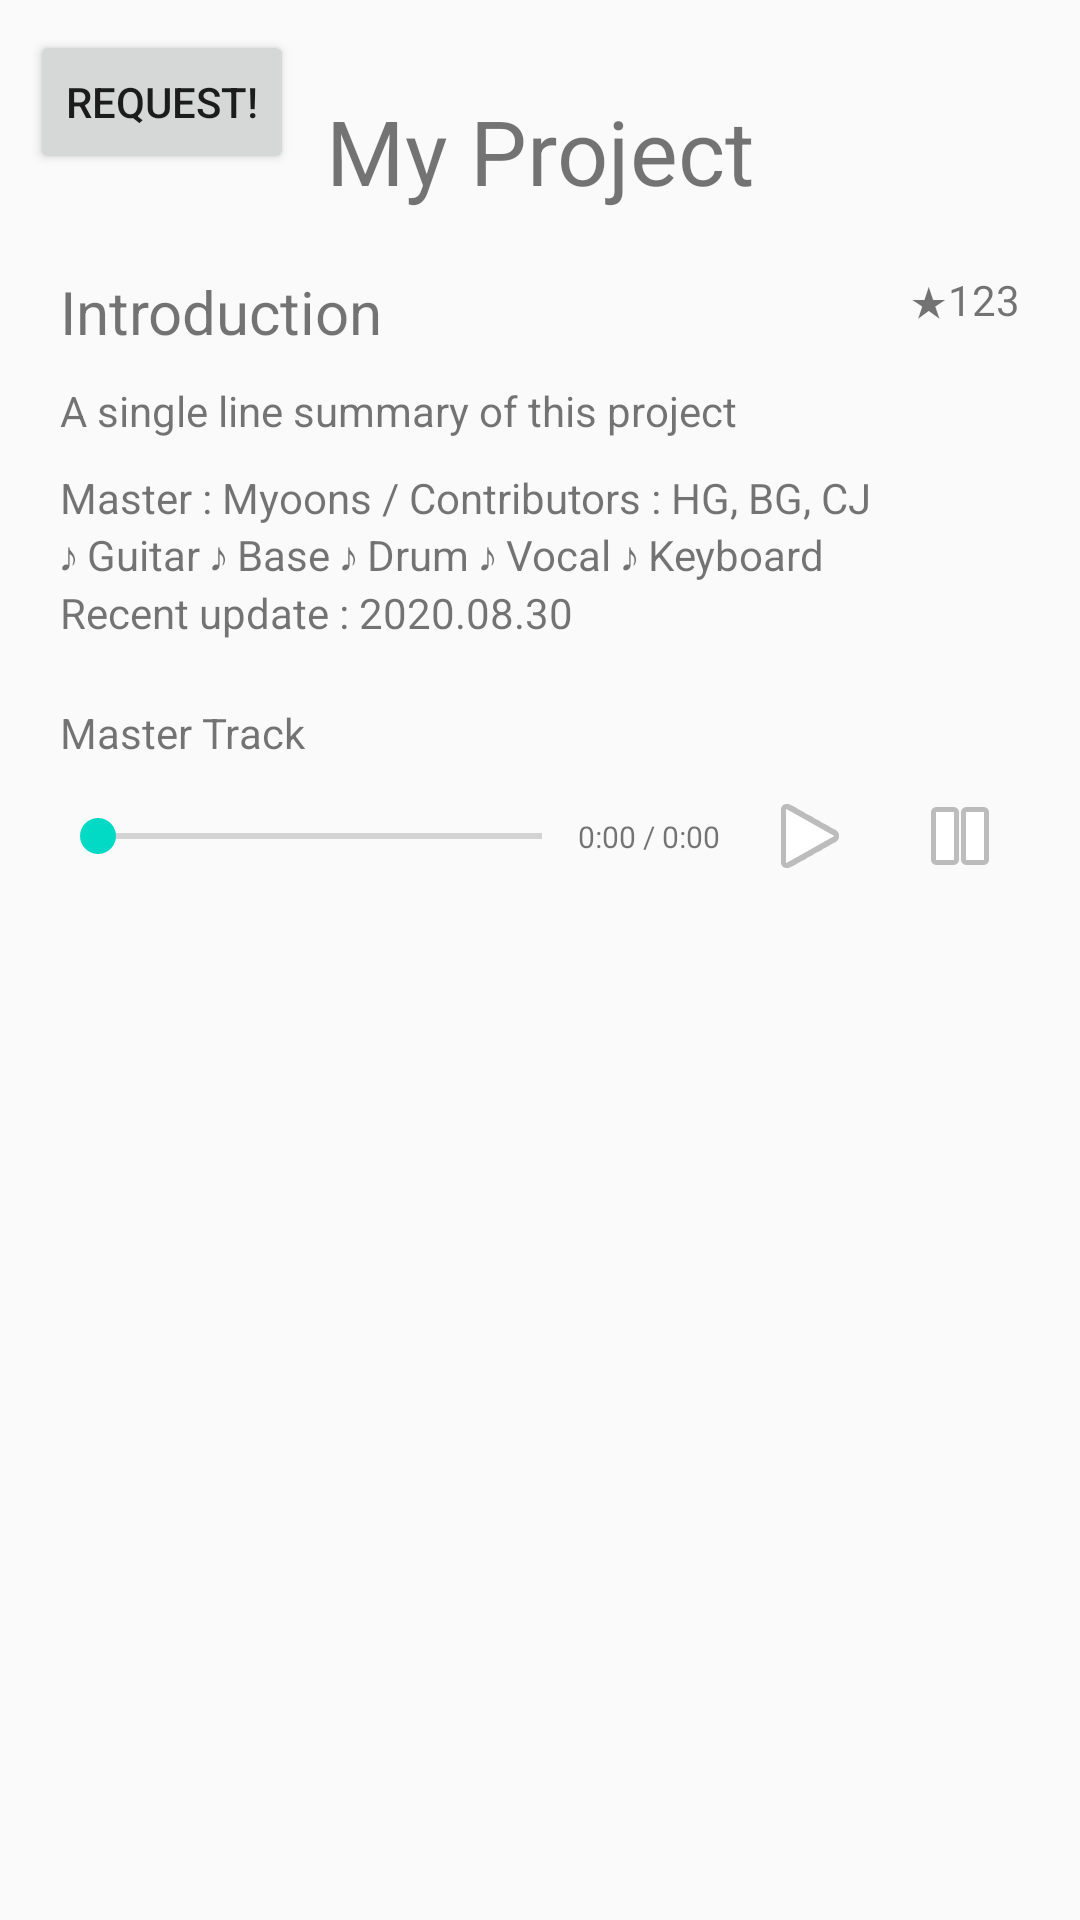

Icon bounding boxes for this 1080w x 1920h phone screenshot, format (x1, y1, x2, y2):
pause: (931, 807, 989, 865)
play: (781, 804, 839, 868)
